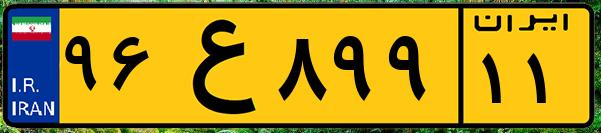1: (475, 38, 525, 113), (525, 38, 570, 115)
6: (110, 28, 158, 98)
8: (270, 28, 330, 110)
9: (385, 28, 445, 110), (330, 28, 385, 110), (57, 26, 110, 100)
ع: (158, 12, 270, 120)
